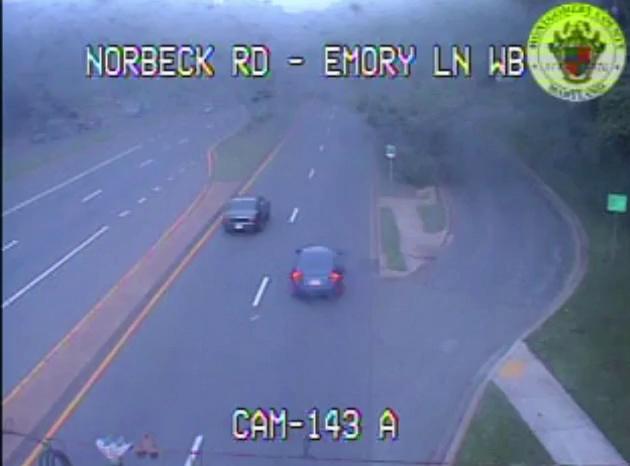car: (292, 246, 345, 297), (223, 197, 270, 231)
